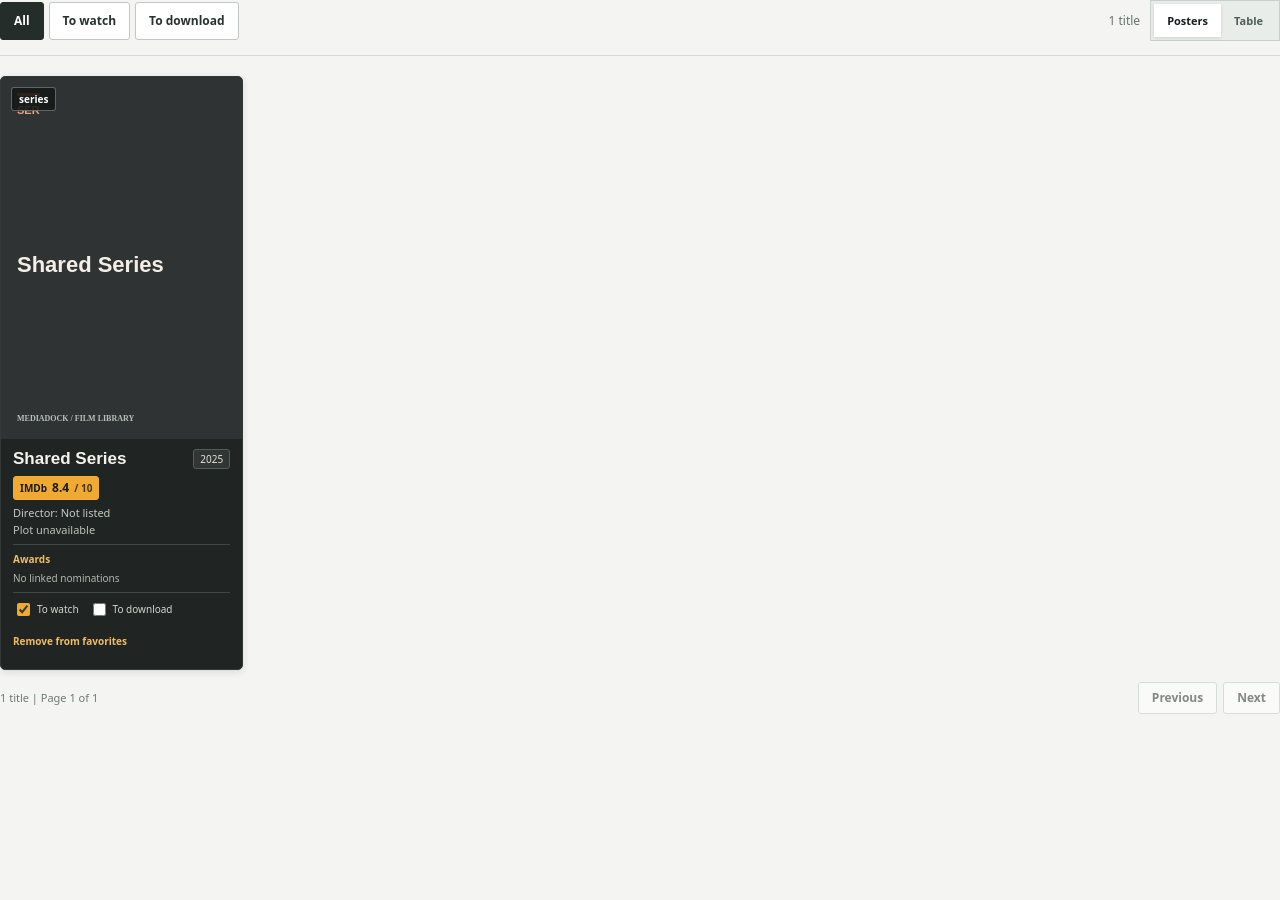
Scenario: treats series favorites like movie favorites and omits empty metadata
Expected: the text "Shared Series" is shown 2 times, [17,253,164,276]; [13,449,185,470]
Click the checkbox labelled "To download" at (99, 609), box [93,603,106,616]
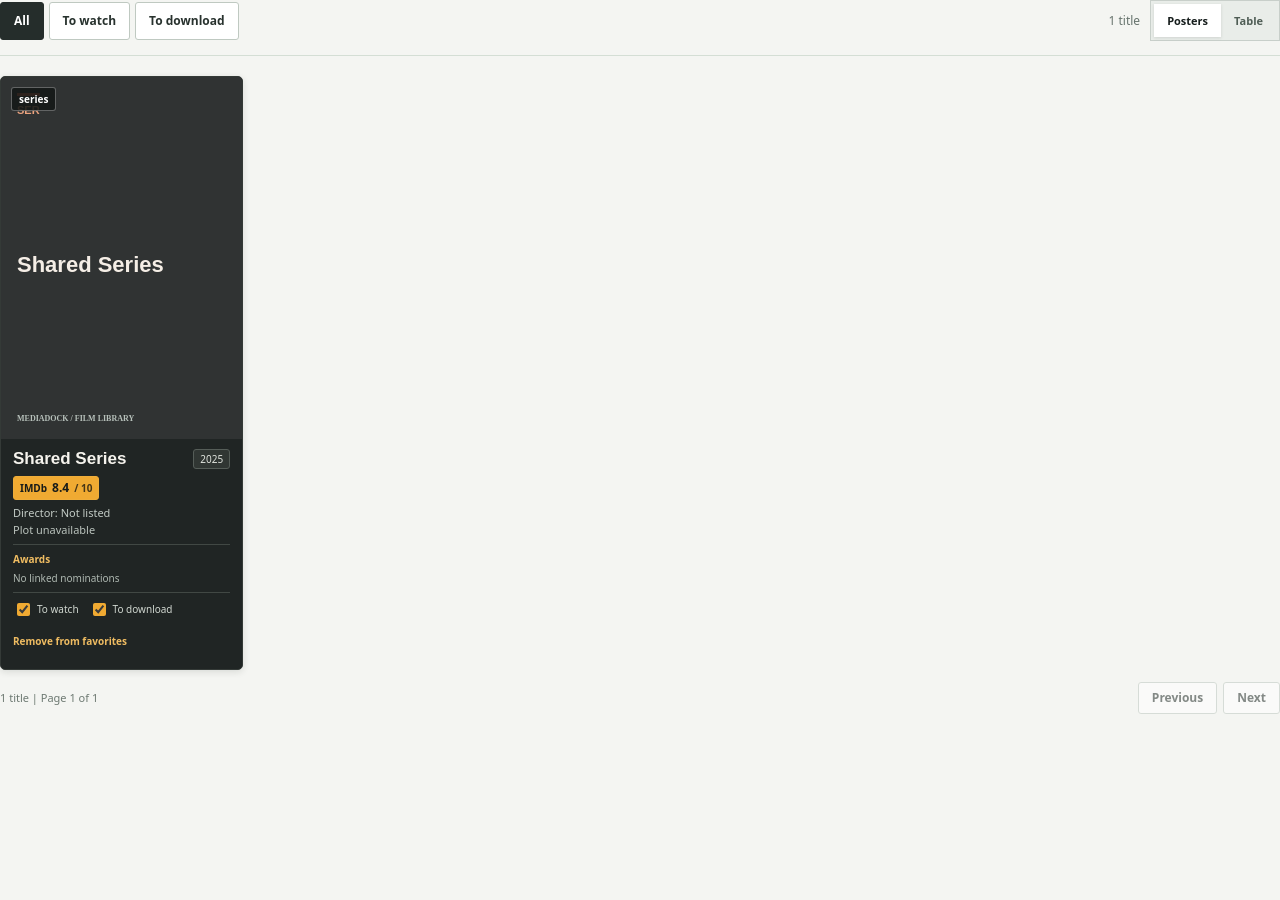
Click the checkbox labelled "To watch" at (24, 609), box [17,603,30,616]
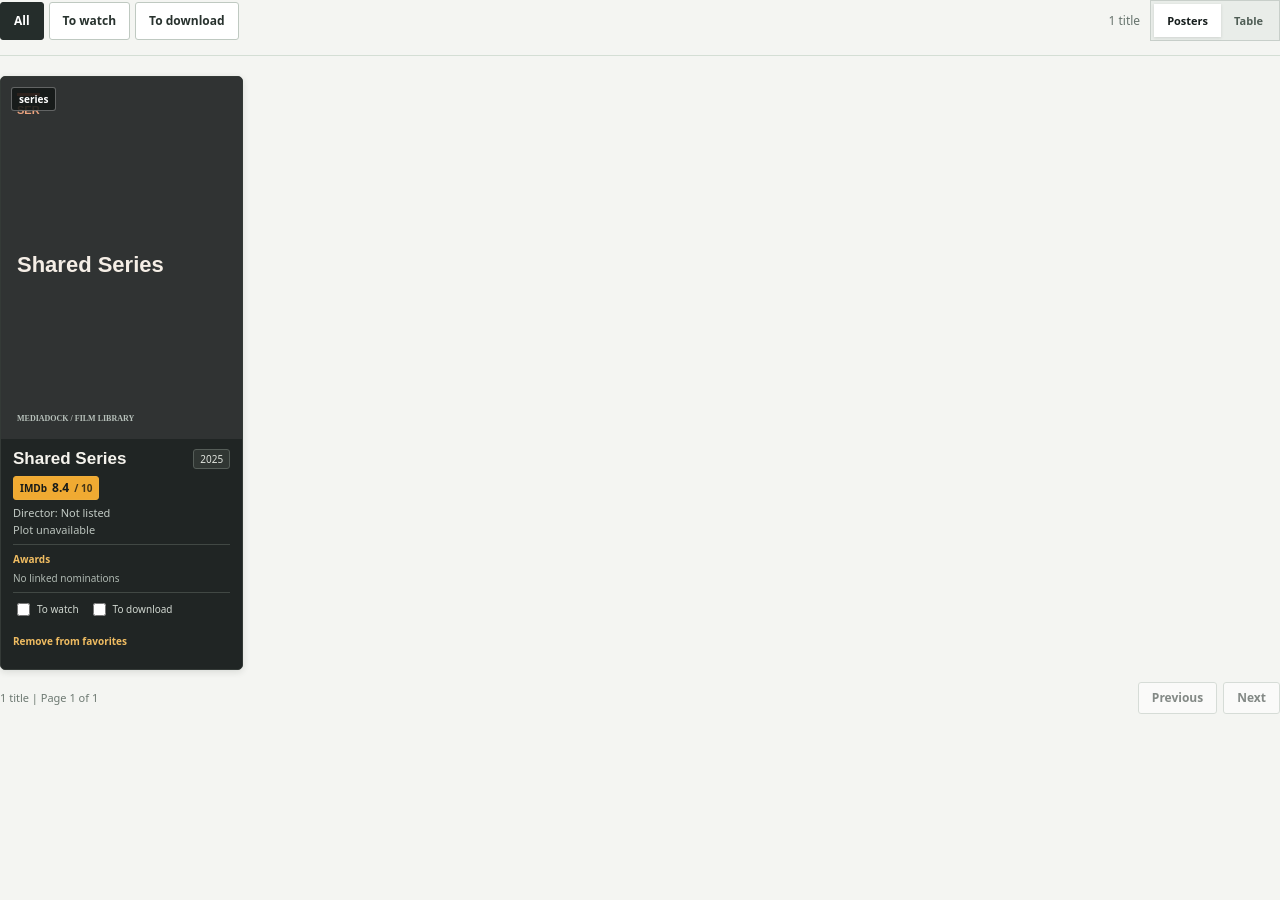
Click the button with aria-label "View Shared Series details" at (122, 258), box [1,77,242,439]
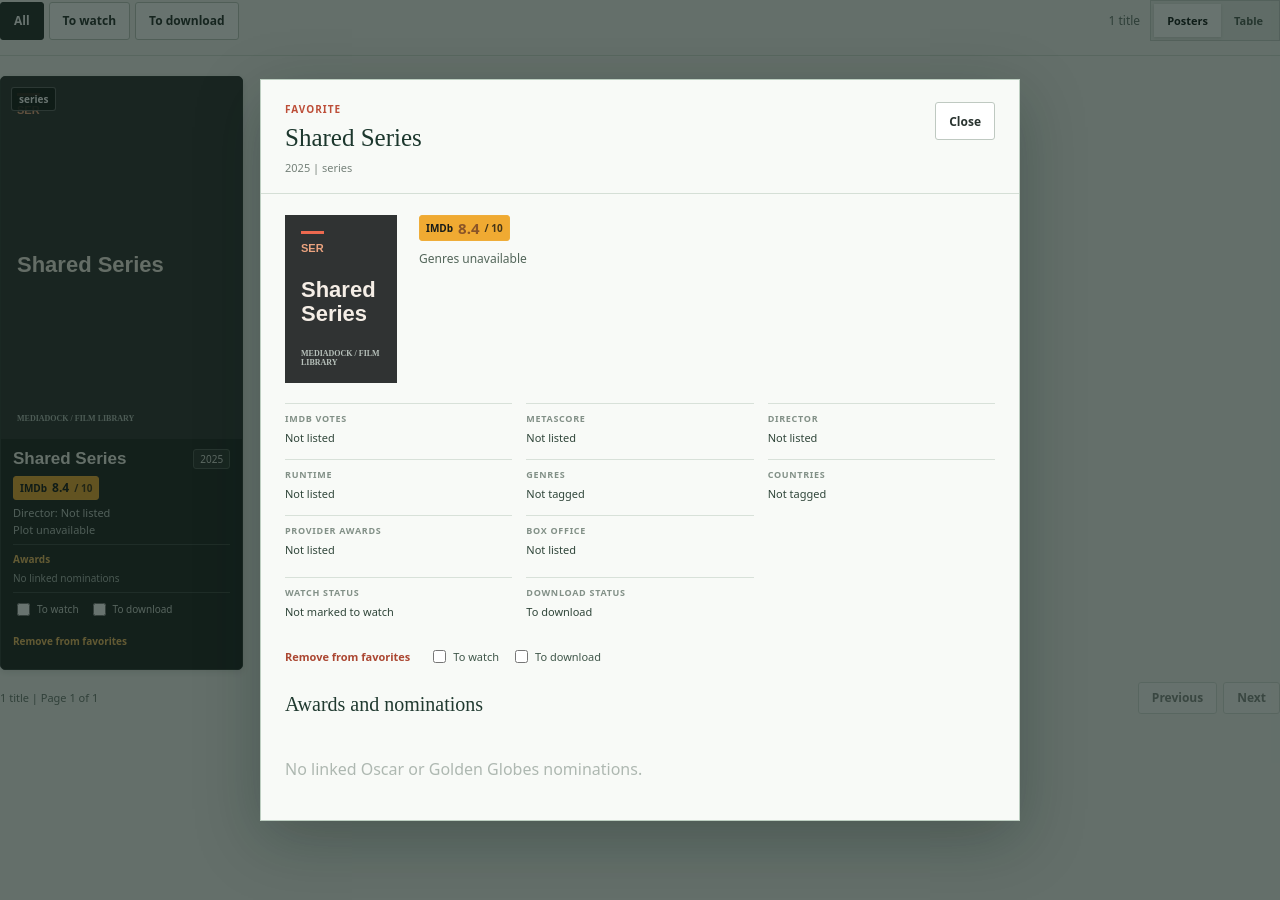
Now the text "Download status" is shown, box [526,586,626,599]
